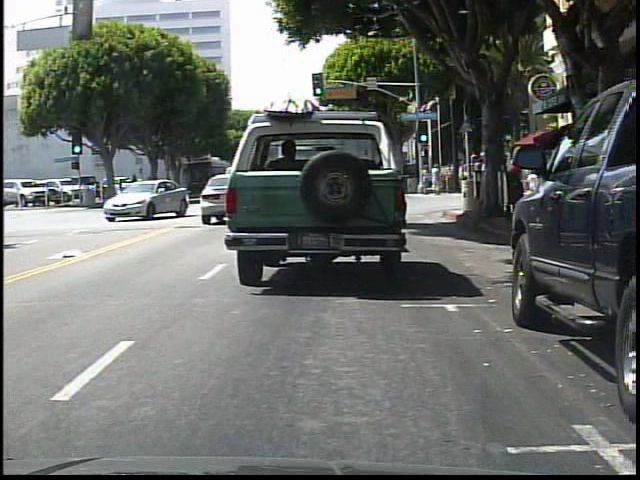person: (430, 161, 442, 194), (445, 162, 456, 193), (419, 165, 430, 194)
